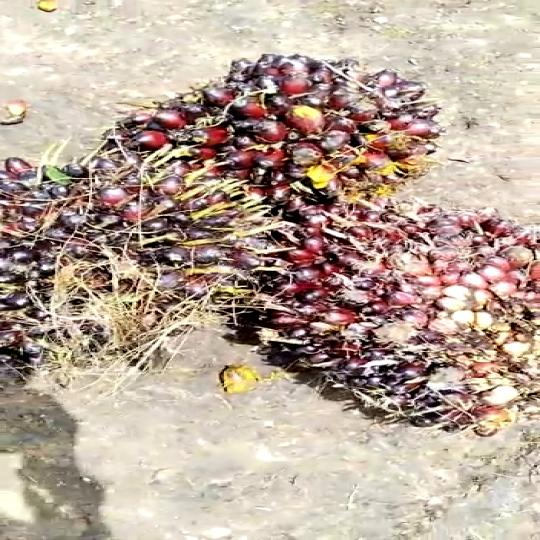kurang masak: (252, 201, 540, 424), (0, 154, 271, 381), (130, 39, 436, 213)
